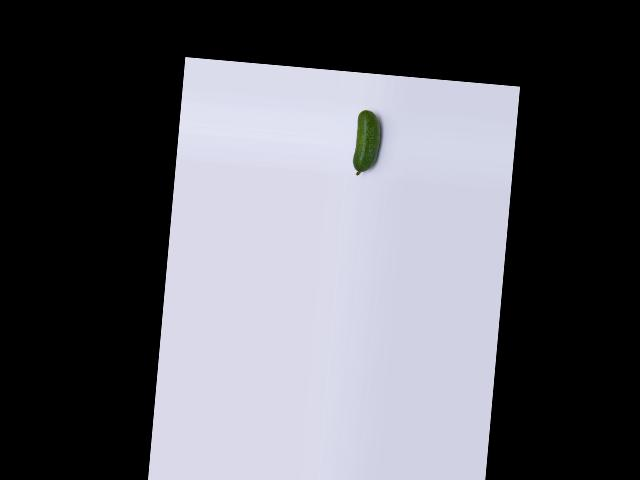cucumber: (352, 108, 383, 176)
